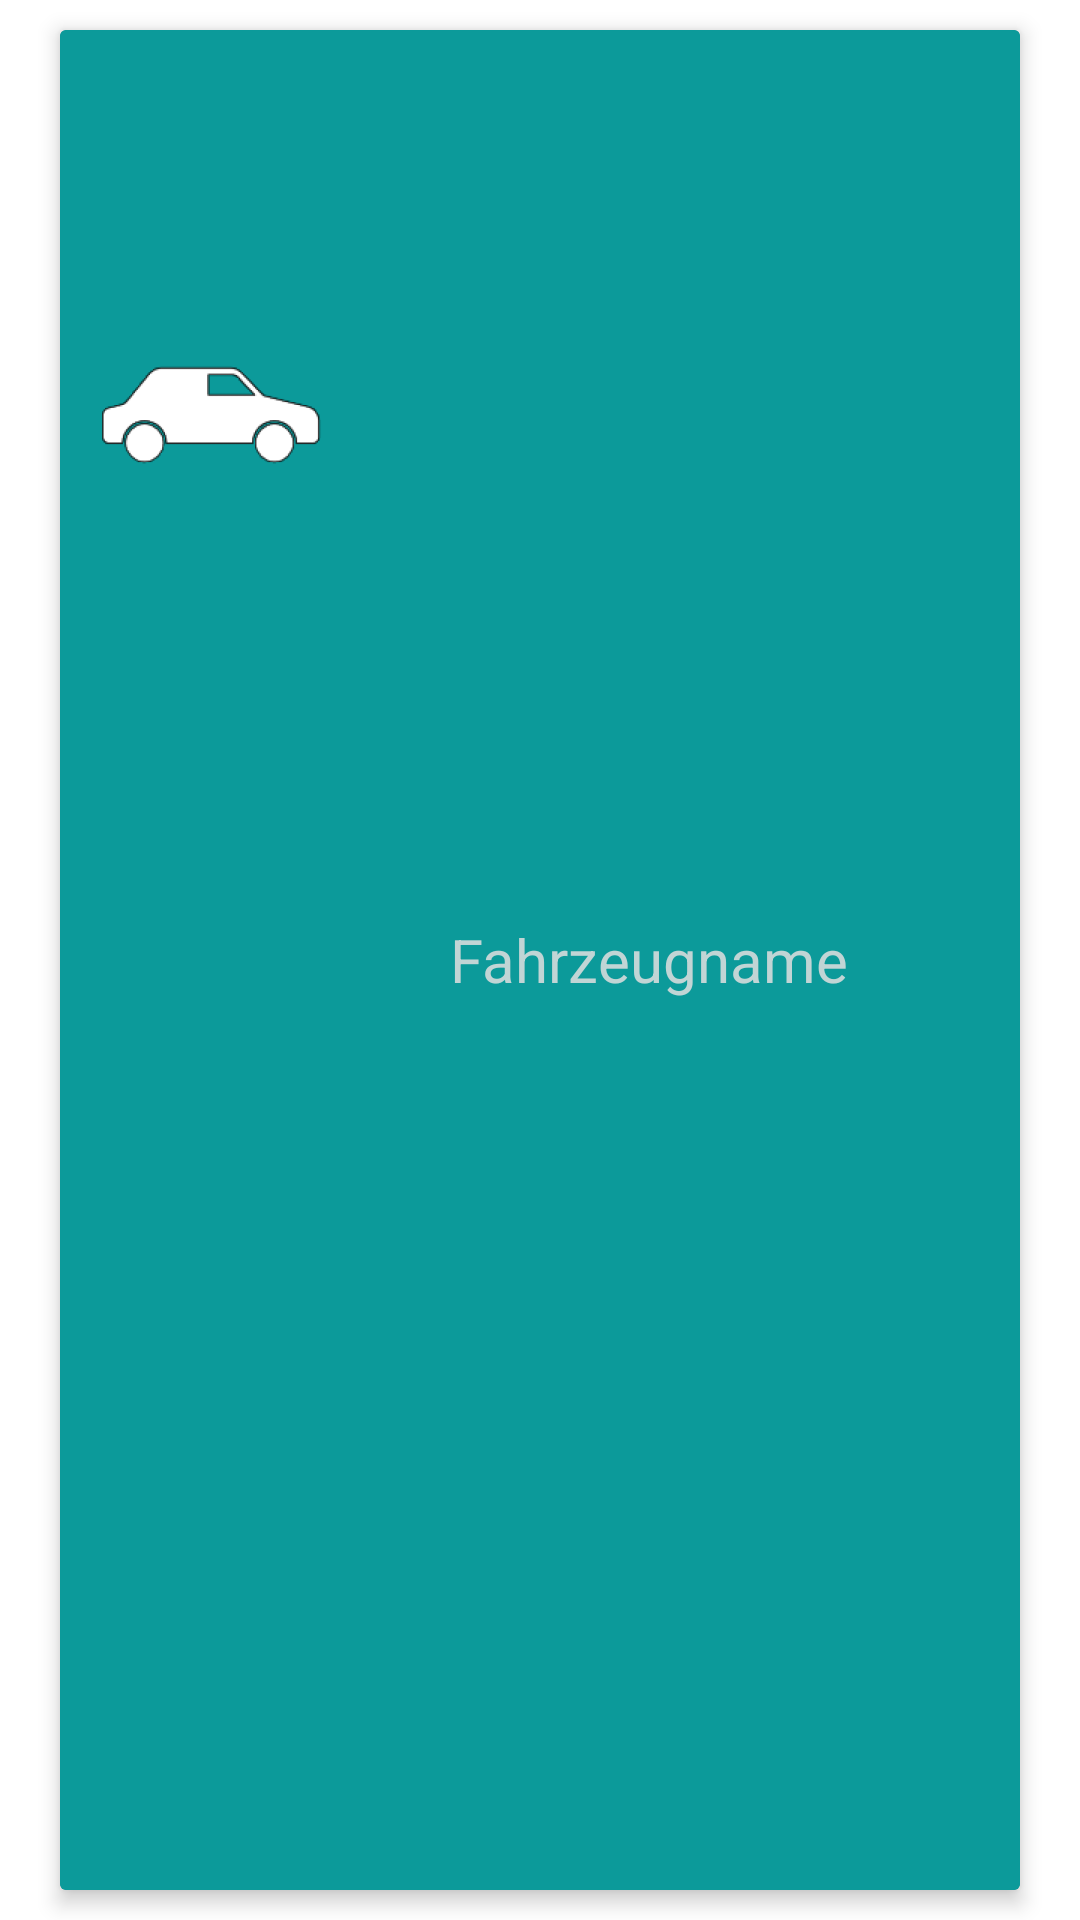

Icon bounding boxes for this 1080*1920 phone screenshot, format [x1,y1,x2,y2]:
car forground: [102,367,320,463]
